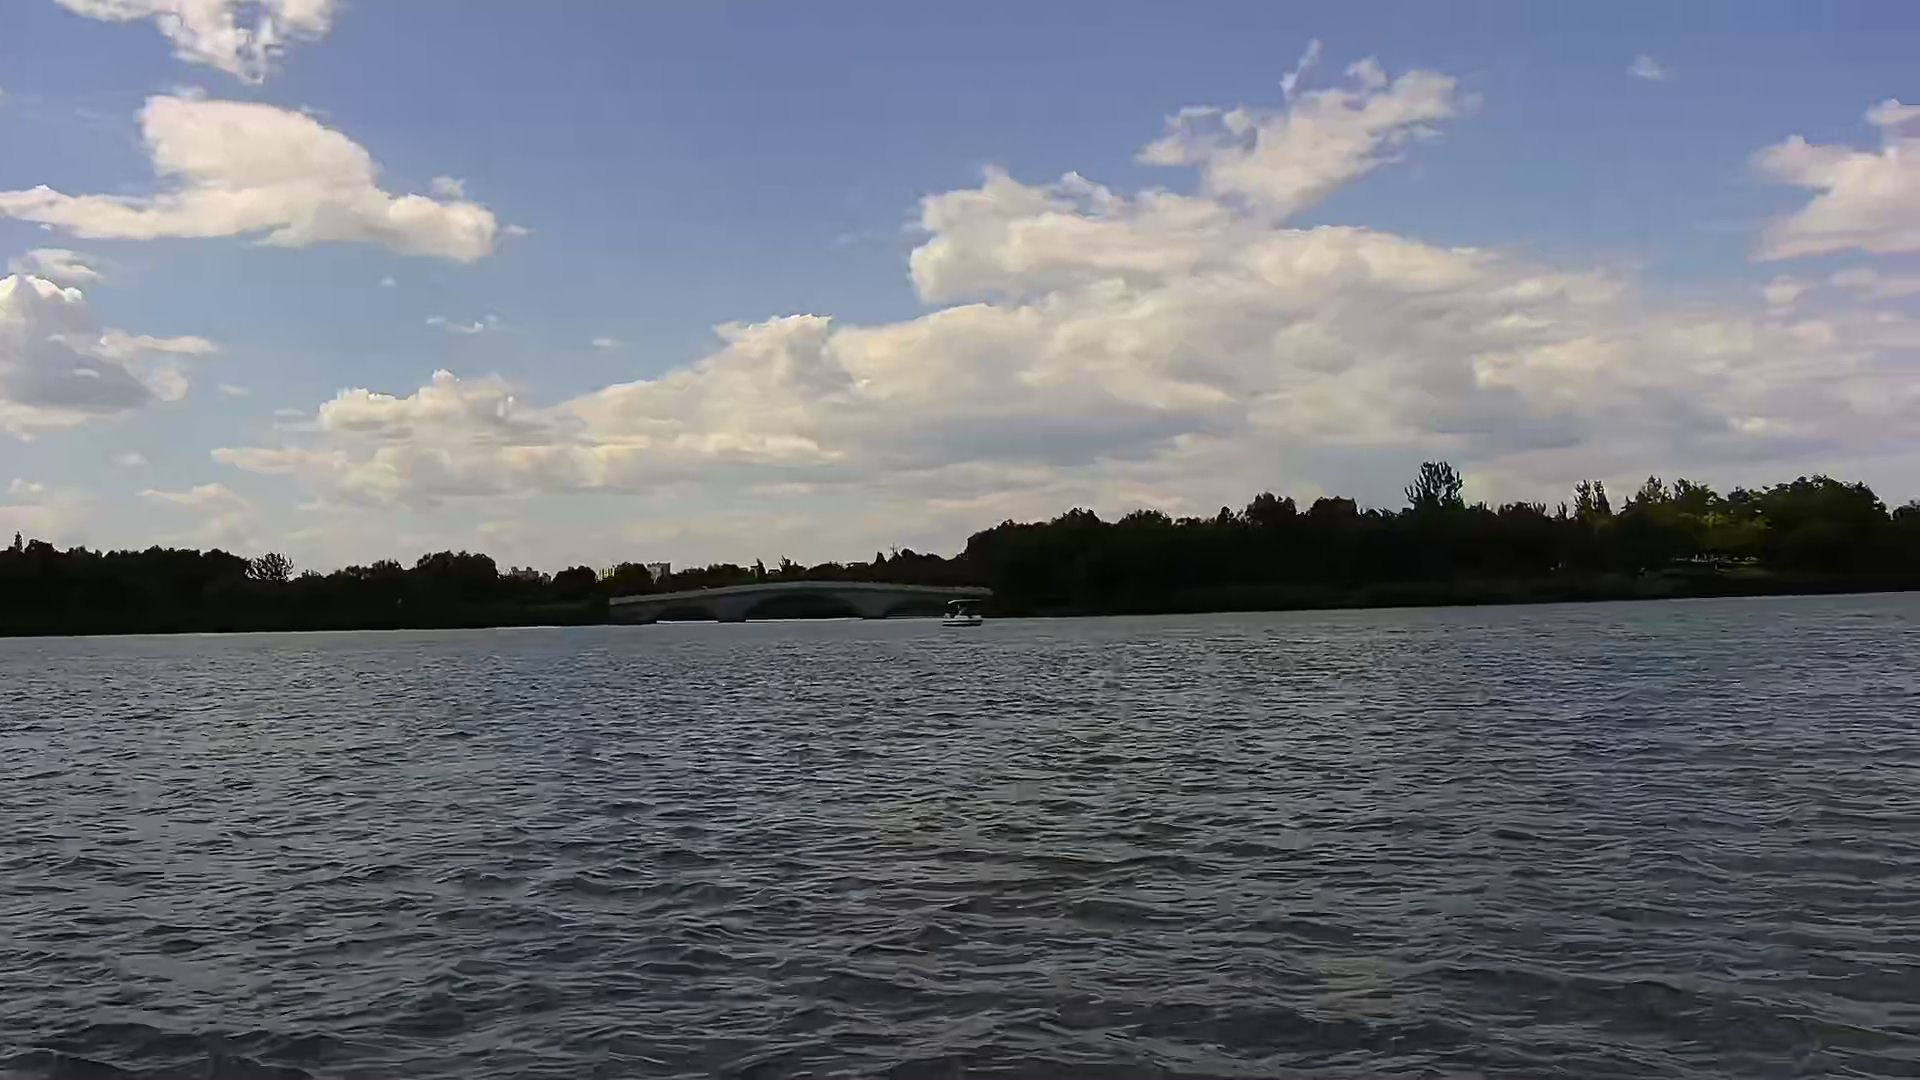boat: (942, 597, 985, 626)
bridge: (611, 582, 982, 622)
